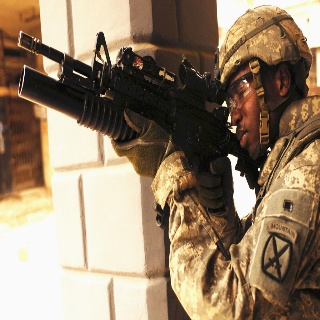rifle: (16, 27, 262, 189)
